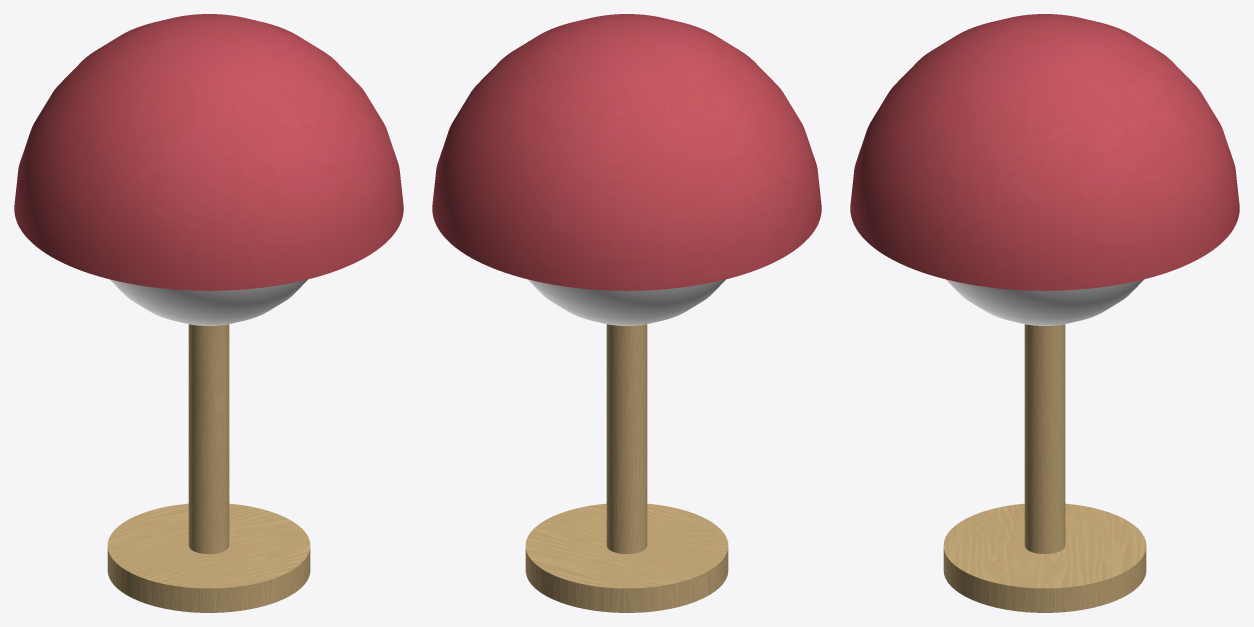
Rendered from RED_OFF.glb.
3 renders of one model, left to right at view 1: azimuth 30°, elevation 25°; view 2: azimuth 150°, elevation 25°; view 3: azimuth 270°, elevation 25°, orthographic.
Parts seen in each view (by area): view 1: DOME, BASE2, DOME2; view 2: DOME, BASE2, DOME2; view 3: DOME, BASE2, DOME2.
Part boxes in pixels (box(x1,y1,x2,y2)): DOME: box(14, 14, 403, 290); BASE2: box(107, 324, 310, 612); DOME2: box(110, 279, 307, 325); DOME: box(432, 14, 821, 290); BASE2: box(525, 324, 728, 612); DOME2: box(528, 279, 725, 325); DOME: box(850, 14, 1239, 290); BASE2: box(943, 324, 1146, 612); DOME2: box(946, 279, 1143, 325).
Bounding box in the file's own units: 0.288 × 0.439 × 0.288.
Materials: 3 (3 with a texture image).
